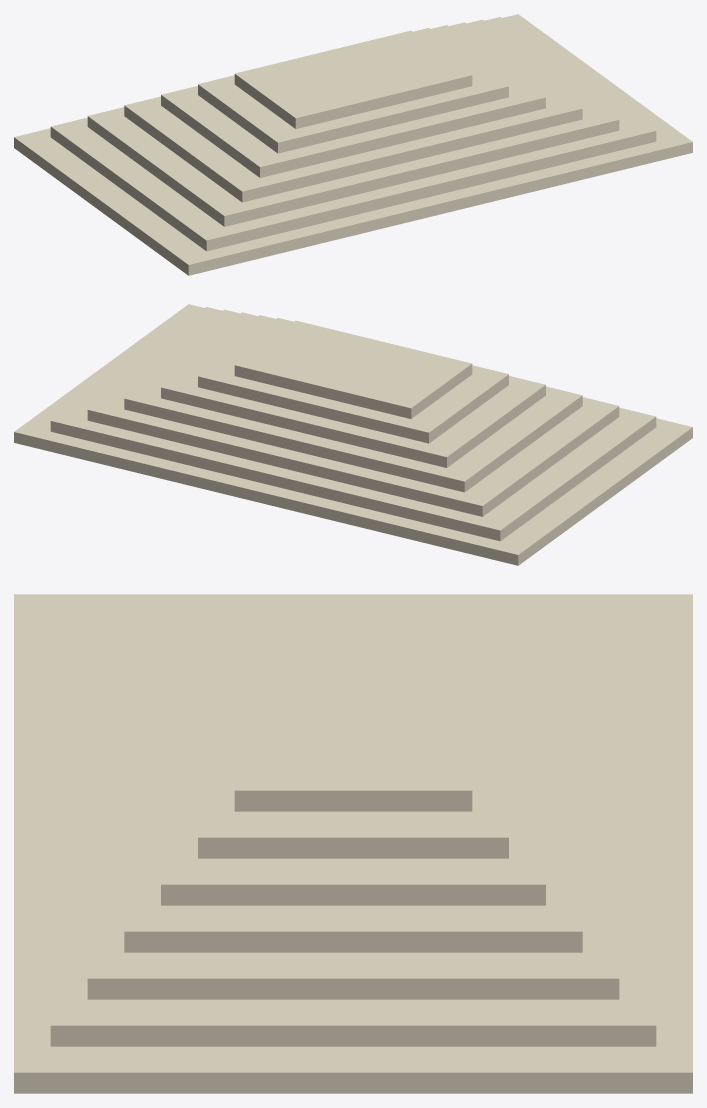
Rendered from place-el-mirador.glb.
3 renders of one model, top to bottom at view 1: azimuth 30°, elevation 25°; view 2: azimuth 150°, elevation 25°; view 3: azimuth 270°, elevation 25°, orthographic. The views are drawn at different scales.
Visible parts, largest first — view 1: place-el-mirador; view 2: place-el-mirador; view 3: place-el-mirador.
Part boxes in pixels (x1,y1,x2,y2): place-el-mirador: (14, 14, 692, 275); place-el-mirador: (14, 304, 692, 565); place-el-mirador: (14, 594, 692, 1093).
Bounding box in the file's own units: 500 × 72 × 300.
